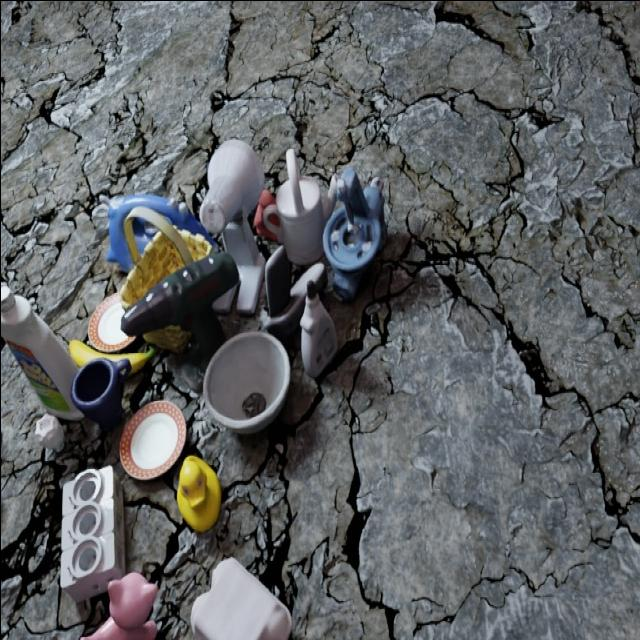Other Objects: (121, 251, 239, 353), (60, 464, 126, 601), (203, 331, 290, 433), (263, 148, 335, 264), (190, 557, 291, 639), (322, 168, 385, 299), (119, 399, 186, 477), (81, 572, 157, 639), (261, 245, 305, 343), (71, 357, 129, 427), (300, 280, 337, 376), (177, 455, 221, 531), (68, 339, 154, 373), (88, 292, 134, 349), (253, 188, 275, 239), (291, 261, 324, 293)
